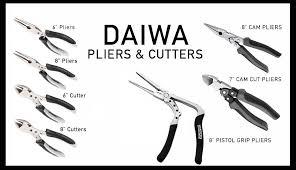pliers: (200, 72, 279, 131), (202, 21, 281, 73), (12, 16, 77, 57), (11, 49, 77, 89), (13, 118, 76, 157), (13, 83, 75, 122)
